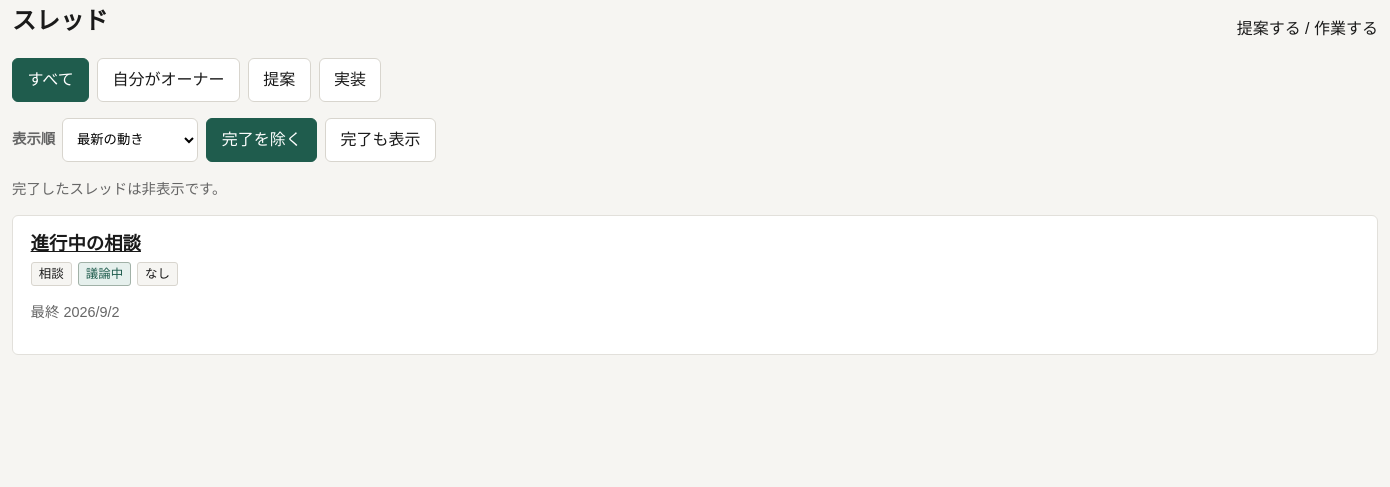
ThreadsPage › hides completed threads by default and can show them
This screenshot has width=1390, height=487.
expect the link "進行中の相談" is shown: met, box [31, 233, 141, 254]
expect the text "終わった実装" is not shown: met
Click the button "完了も表示" at (381, 140), box [325, 118, 436, 162]
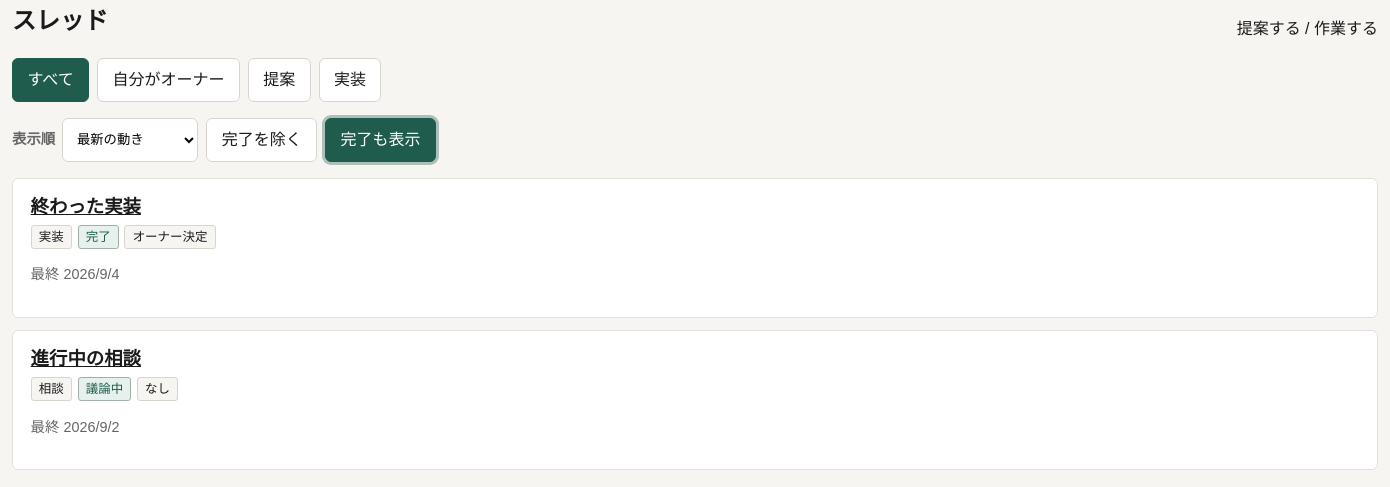
expect the link "終わった実装" is shown: met, box [31, 196, 141, 217]
expect the text "完了したスレッドは非表示です。" is gone: met
